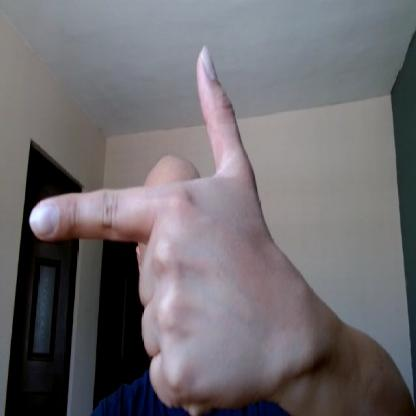G: (30, 49, 269, 415)
